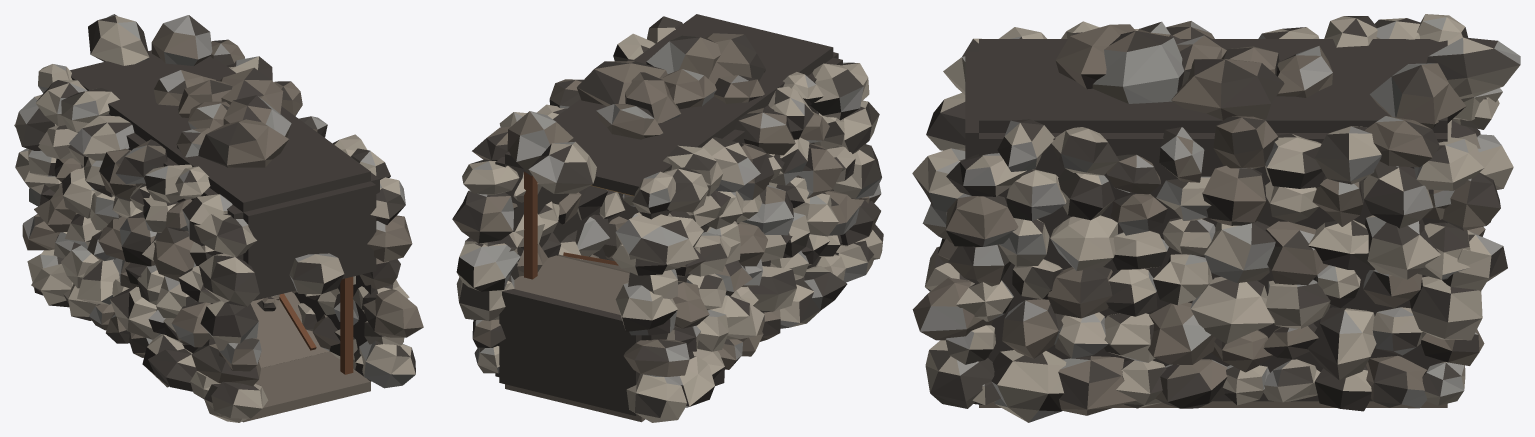
Rendered from Cave_Mines_Drop.fbx.
3 renders of one model, left to right at view 1: azimuth 30°, elevation 25°; view 2: azimuth 150°, elevation 25°; view 3: azimuth 270°, elevation 25°, orthographic. The views are drawn at different scales.
Visible parts, largest first — view 1: Decor, Ceiling1, Wall4, Floor2, Slope, Wall1, Wall2; view 2: Decor, Ceiling1, Wall3, Floor1, Wall1, Wall2; view 3: Decor, Ceiling1, Wall1, Wall4, Floor2.
Part boxes in pixels (x1,y1,x2,y2): Decor: (14, 14, 423, 422); Ceiling1: (70, 50, 370, 212); Wall4: (243, 181, 376, 300); Floor2: (242, 351, 370, 422); Slope: (250, 291, 329, 367); Wall1: (294, 172, 379, 381); Wall2: (104, 114, 243, 353); Decor: (452, 16, 883, 422); Ceiling1: (505, 14, 833, 195); Wall3: (499, 289, 641, 415); Floor1: (505, 255, 645, 422); Wall1: (495, 157, 641, 376); Wall2: (641, 57, 842, 354); Decor: (912, 14, 1520, 422); Ceiling1: (979, 39, 1447, 132); Wall1: (979, 133, 1447, 401); Wall4: (965, 51, 978, 159); Floor2: (979, 401, 1335, 407).
Size of the model in its own units: 24.55 by 26.94 by 44.16.
